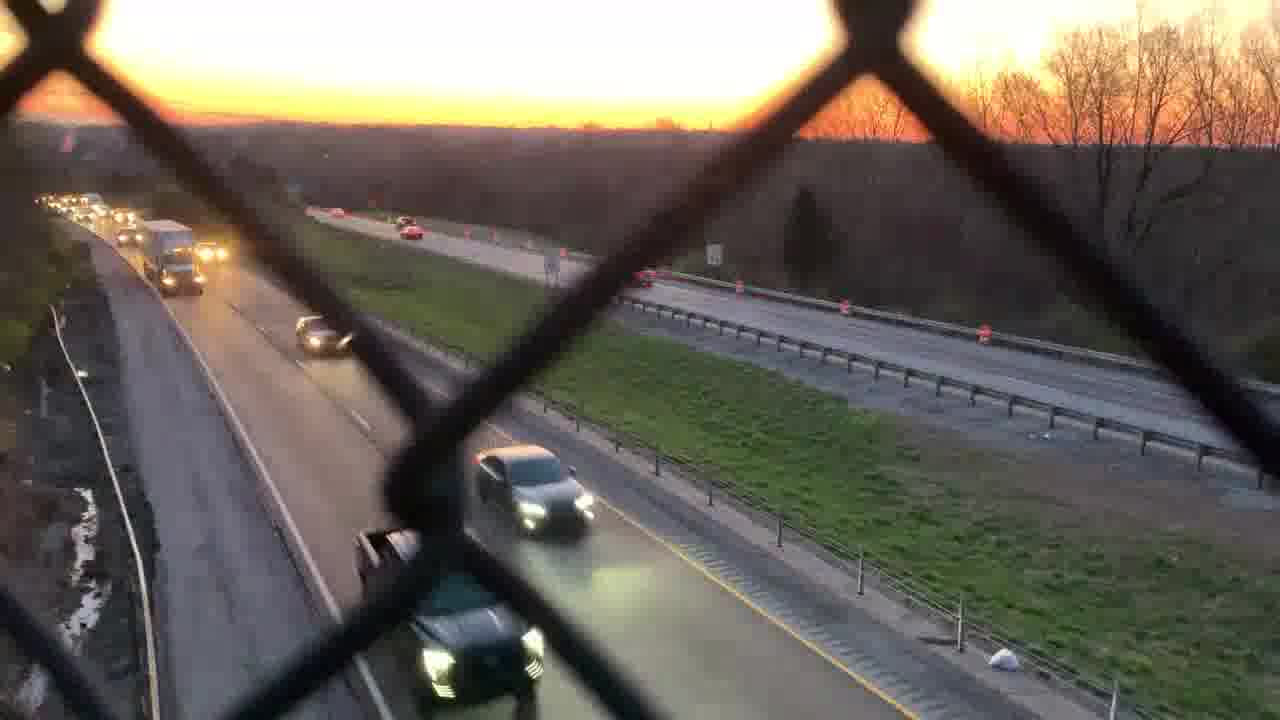heavyTruck: (138, 216, 208, 296)
lightTruck: (352, 526, 551, 711)
smallCar: (470, 446, 598, 542), (290, 310, 353, 359)
